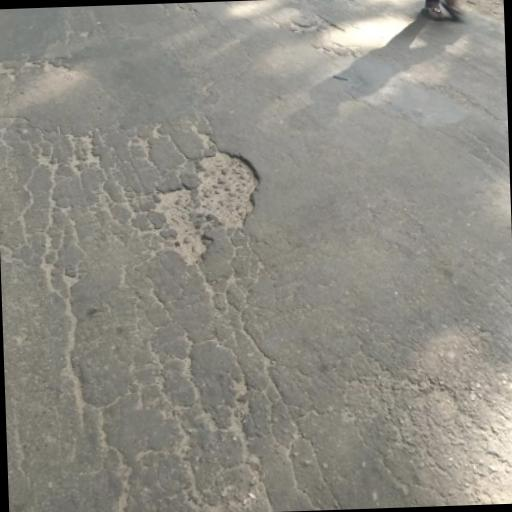pothole: (147, 143, 264, 268)
